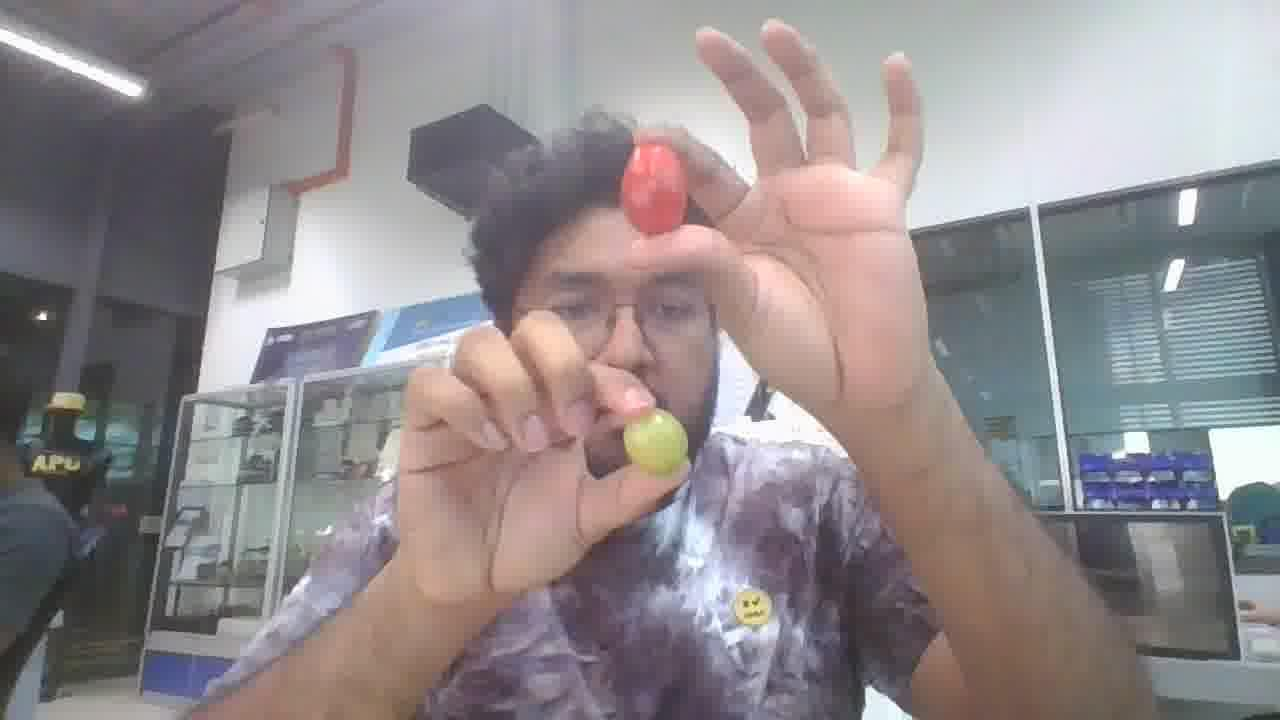green_cherry_tomato: (623, 409, 688, 474)
red_cherry_tomato: (620, 143, 687, 235)
